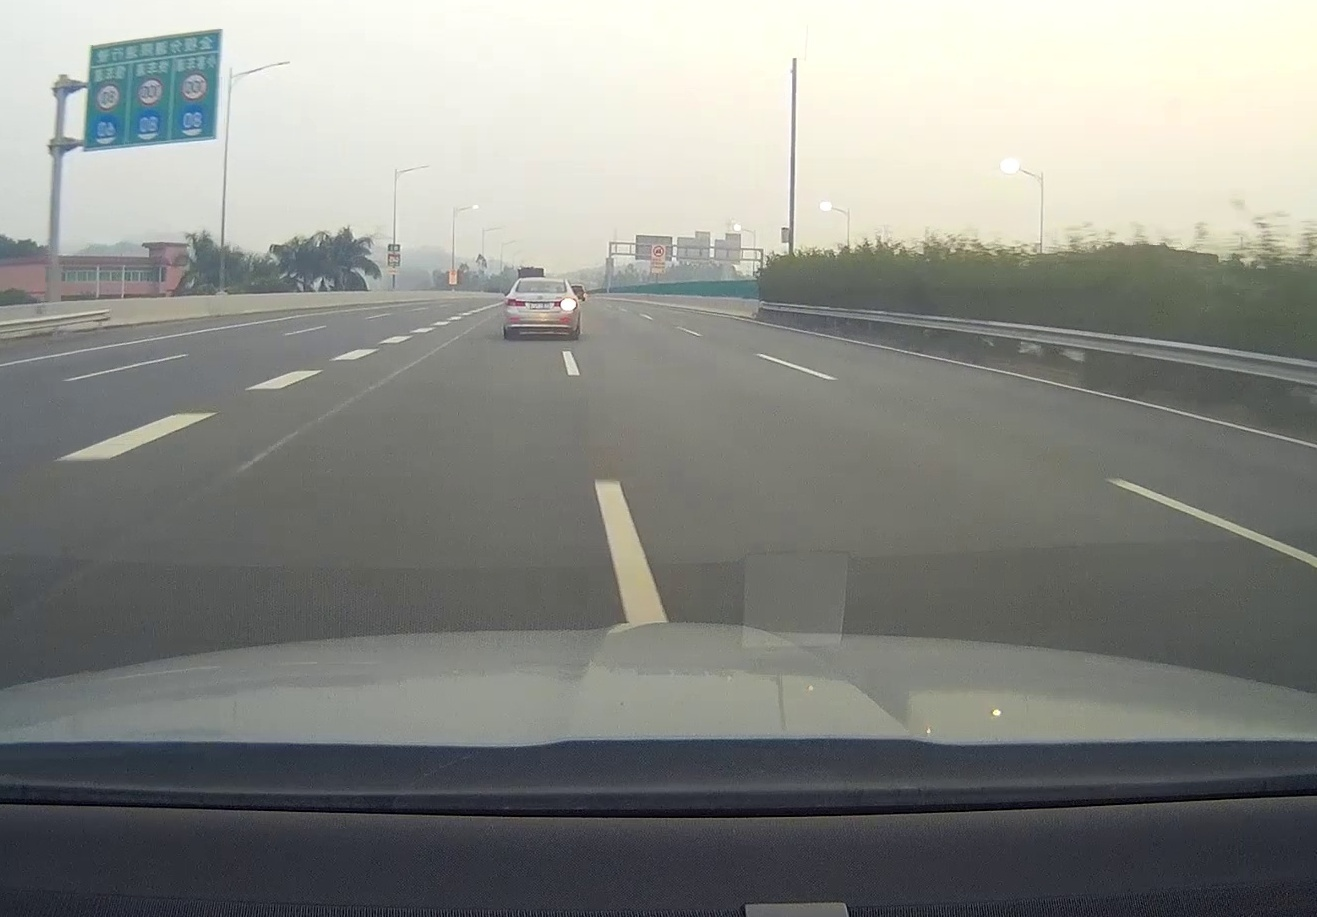L_light: (506, 298, 525, 307)
R_light: (555, 299, 577, 307)
T_light: (539, 280, 548, 283)
day-right: (504, 277, 578, 340)
